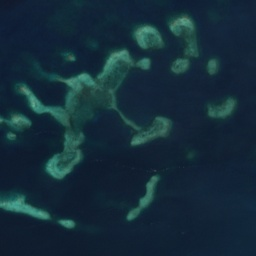Marine Debris: (147, 167, 170, 174)
